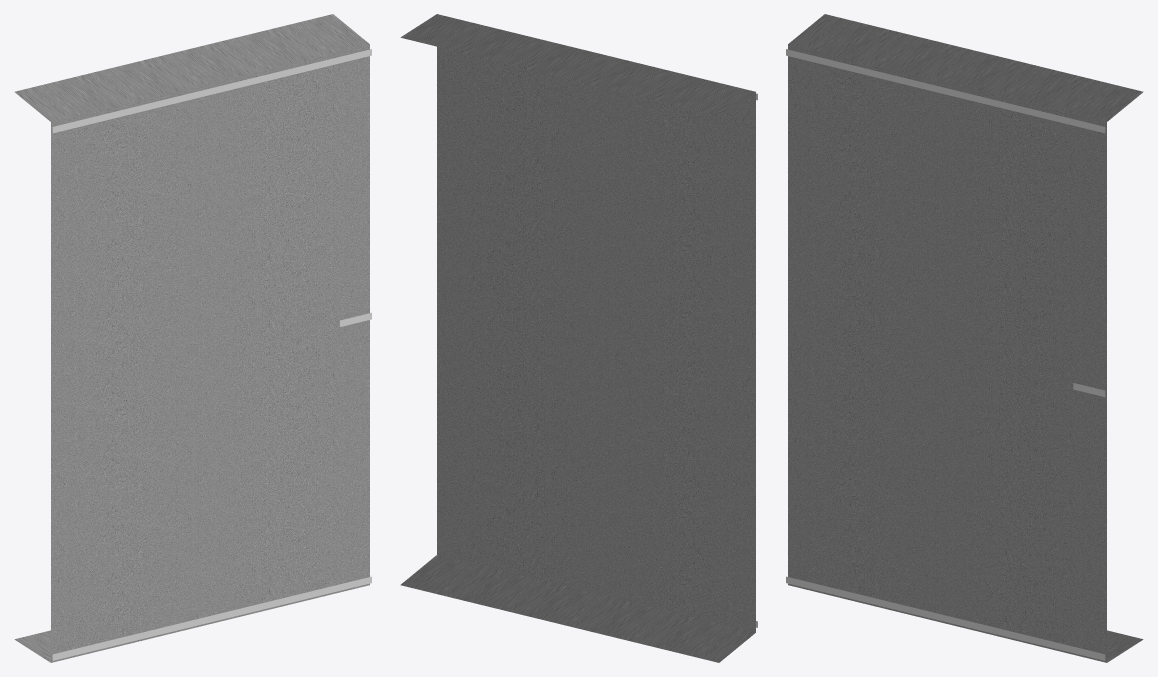
The model's file is road.obj.
3 renders of one model, left to right at view 1: azimuth 30°, elevation 25°; view 2: azimuth 150°, elevation 25°; view 3: azimuth 330°, elevation 25°, orthographic.
Parts seen in each view (by area): view 1: Road_Type_1_4_1, Slope_left_1, Lanemarks_white_1, Bank_left_1, Bank_right_1, Slope_right_1; view 2: Road_Type_1_4_1, Slope_right_1, Slope_left_1, Bank_right_1; view 3: Road_Type_1_4_1, Slope_left_1, Lanemarks_white_1, Bank_left_1, Bank_right_1, Slope_right_1.
Part boxes in pixels (left/top/right/bottom): Road_Type_1_4_1: left=51, top=47, right=369, bottom=659; Slope_left_1: left=14, top=14, right=369, bottom=121; Lanemarks_white_1: left=52, top=49, right=371, bottom=660; Bank_left_1: left=51, top=44, right=369, bottom=125; Bank_right_1: left=51, top=583, right=369, bottom=662; Slope_right_1: left=14, top=630, right=50, bottom=662; Road_Type_1_4_1: left=437, top=46, right=755, bottom=629; Slope_right_1: left=400, top=555, right=755, bottom=662; Slope_left_1: left=400, top=14, right=755, bottom=115; Bank_right_1: left=437, top=551, right=755, bottom=632; Road_Type_1_4_1: left=788, top=47, right=1106, bottom=659; Slope_left_1: left=788, top=14, right=1143, bottom=121; Lanemarks_white_1: left=786, top=49, right=1105, bottom=660; Bank_left_1: left=788, top=44, right=1106, bottom=125; Bank_right_1: left=788, top=583, right=1106, bottom=662; Slope_right_1: left=1107, top=630, right=1143, bottom=662.
Size of the model in its own units: 5 by 8.2 by 1.05.
Materials: 3 (2 with a texture image).
